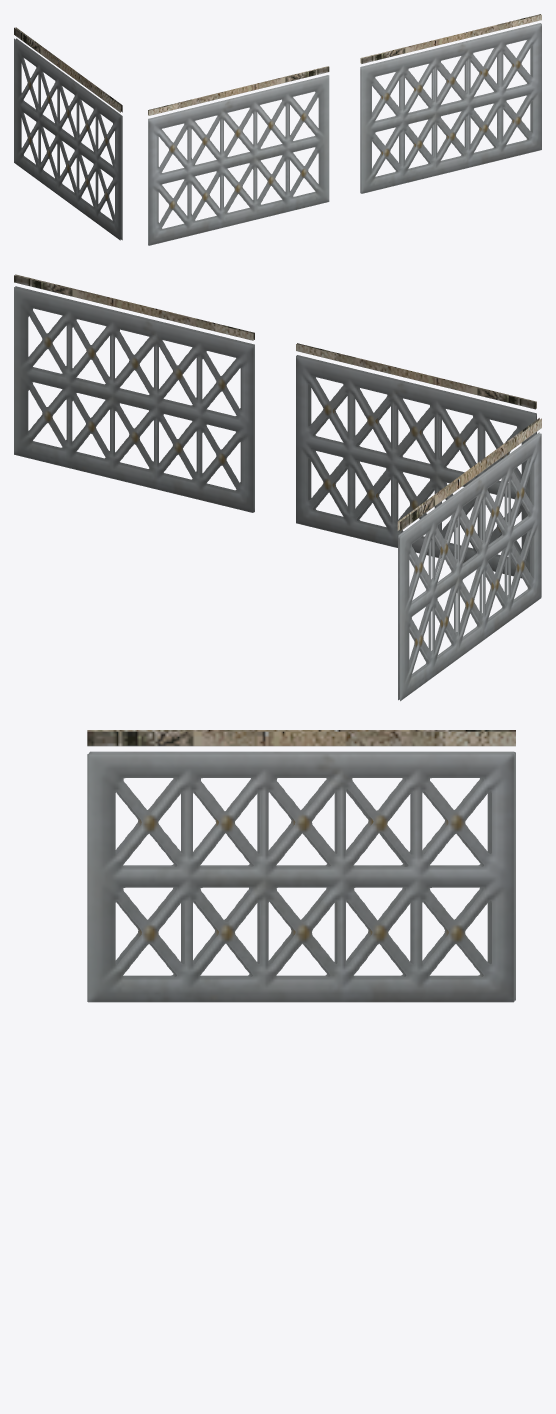
The model's file is rome_market_struct1_tran.dae.
3 views of the same model, one above another, from view 1: azimuth 30°, elevation 25°; view 2: azimuth 150°, elevation 25°; view 3: azimuth 270°, elevation 25° (orthographic). The views are drawn at different scales.
Visible parts, largest first — view 1: rome_market_str1_tran; view 2: rome_market_str1_tran; view 3: rome_market_str1_tran.
Boxes of the visible parts, bbox=[...] form: rome_market_str1_tran: bbox=[14, 14, 541, 245]; rome_market_str1_tran: bbox=[14, 274, 541, 701]; rome_market_str1_tran: bbox=[87, 730, 515, 1002].
Bounding box in the file's own units: 6.16 × 3.1 × 1.95.
